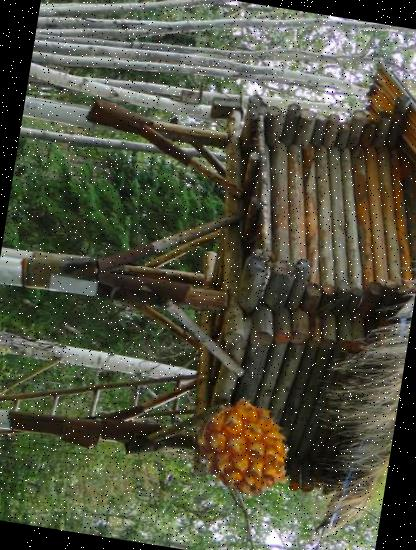Pineapple: (186, 392, 302, 508)
